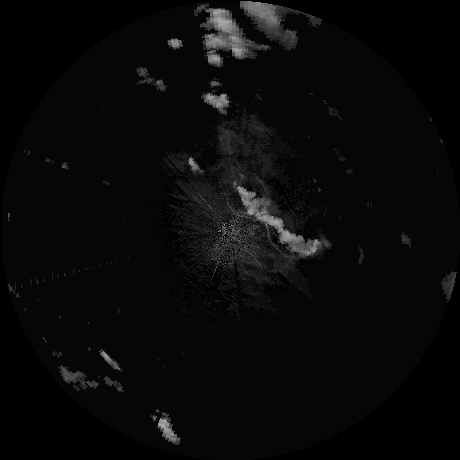frontgust: (265, 225, 300, 259), (225, 200, 260, 221), (251, 175, 269, 202)
